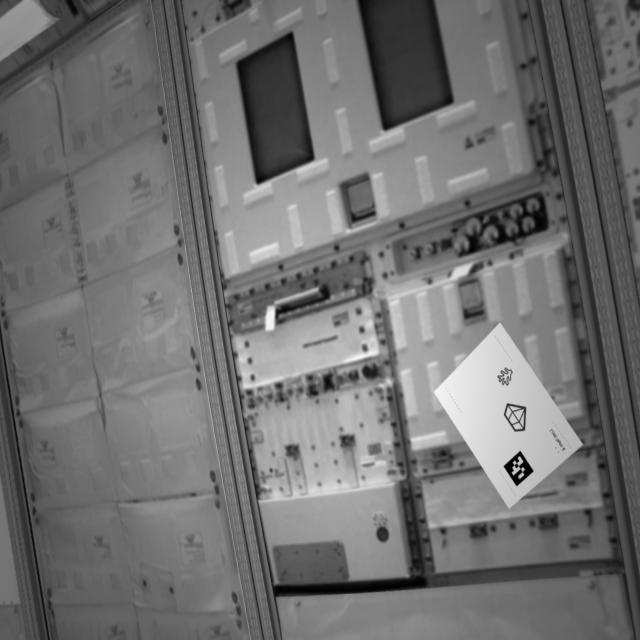coral: (496, 364, 518, 389)
diamond: (504, 397, 531, 441)
